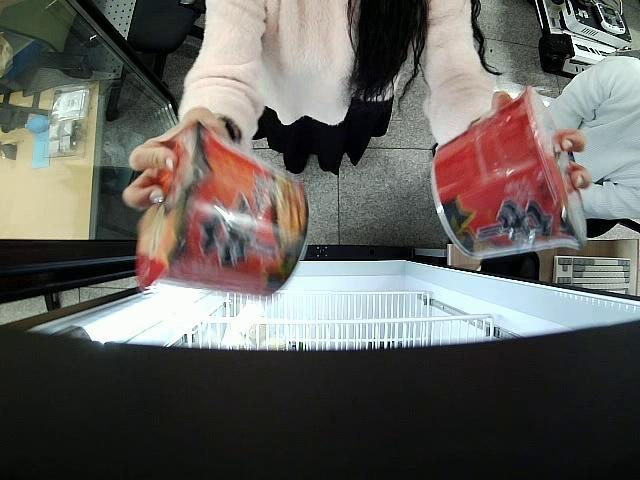01_ShinRamen_L: (136, 123, 308, 296), (432, 84, 590, 256)
